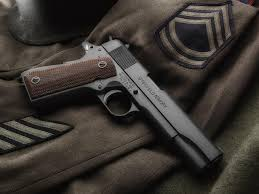gun: (19, 32, 227, 174)
